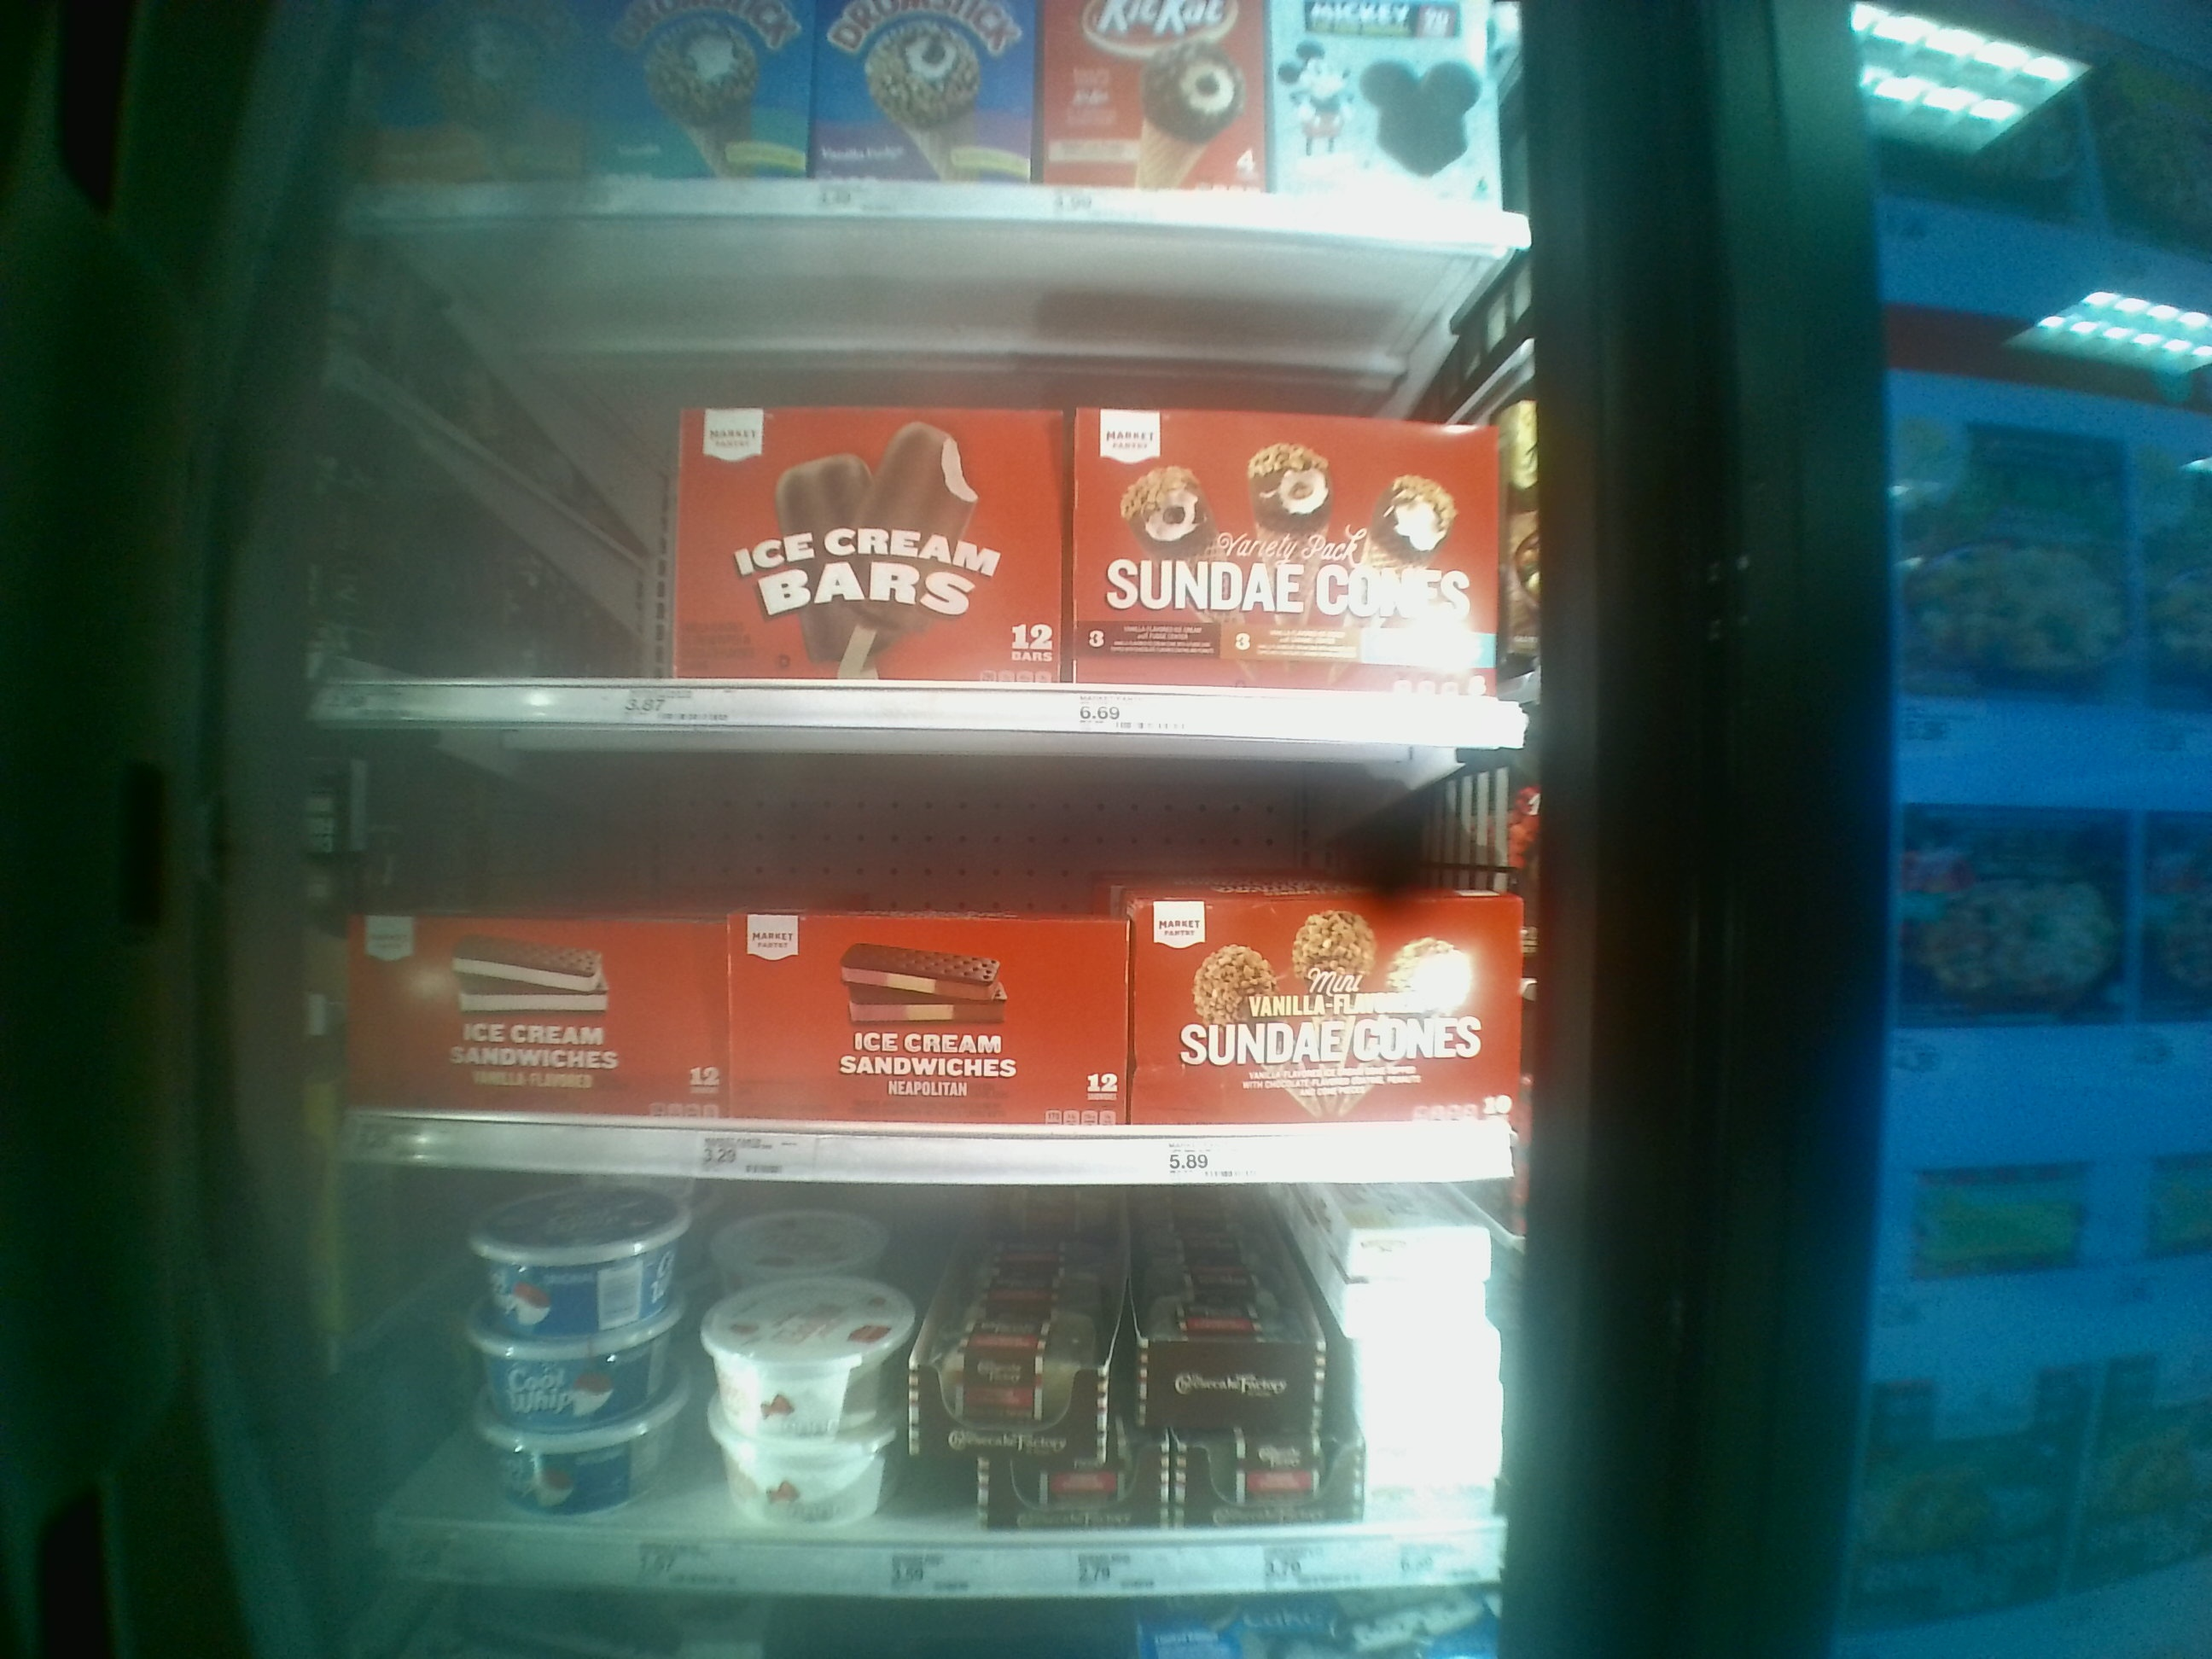frozen-food-shelf: (298, 237, 1554, 746), (296, 748, 1550, 1195), (296, 1195, 1564, 1607)
